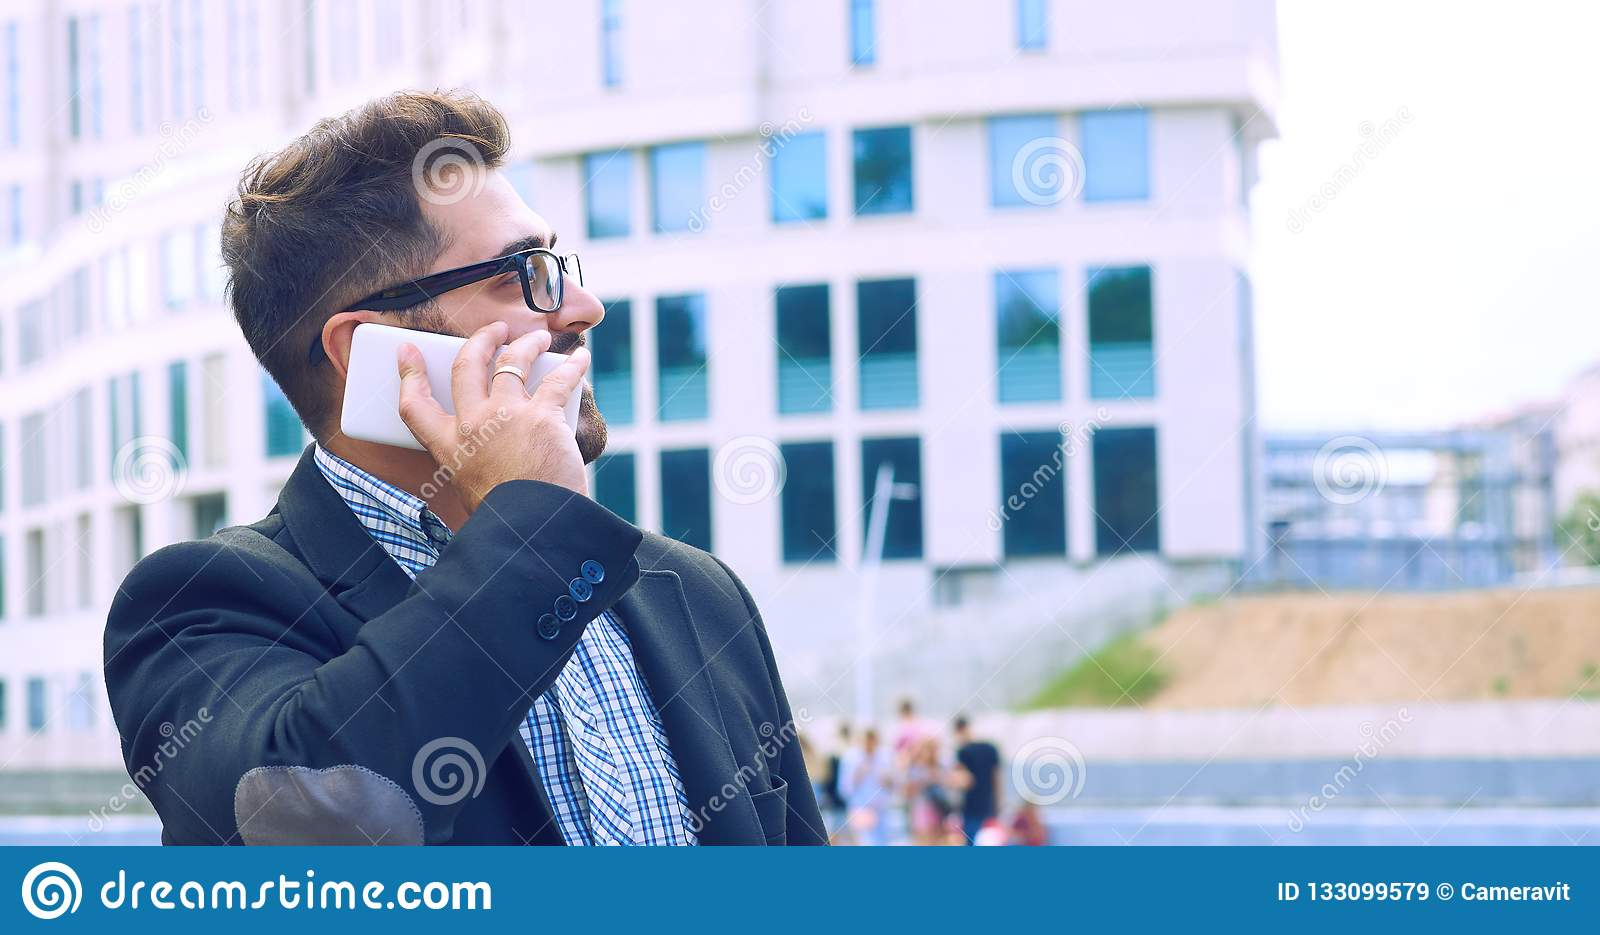phone: (336, 322, 586, 454)
talk: (330, 217, 612, 534)
